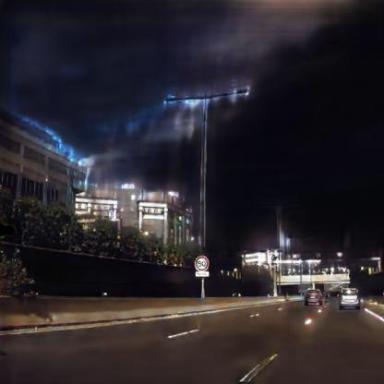Speed_limit_90: (195, 257, 209, 271)
